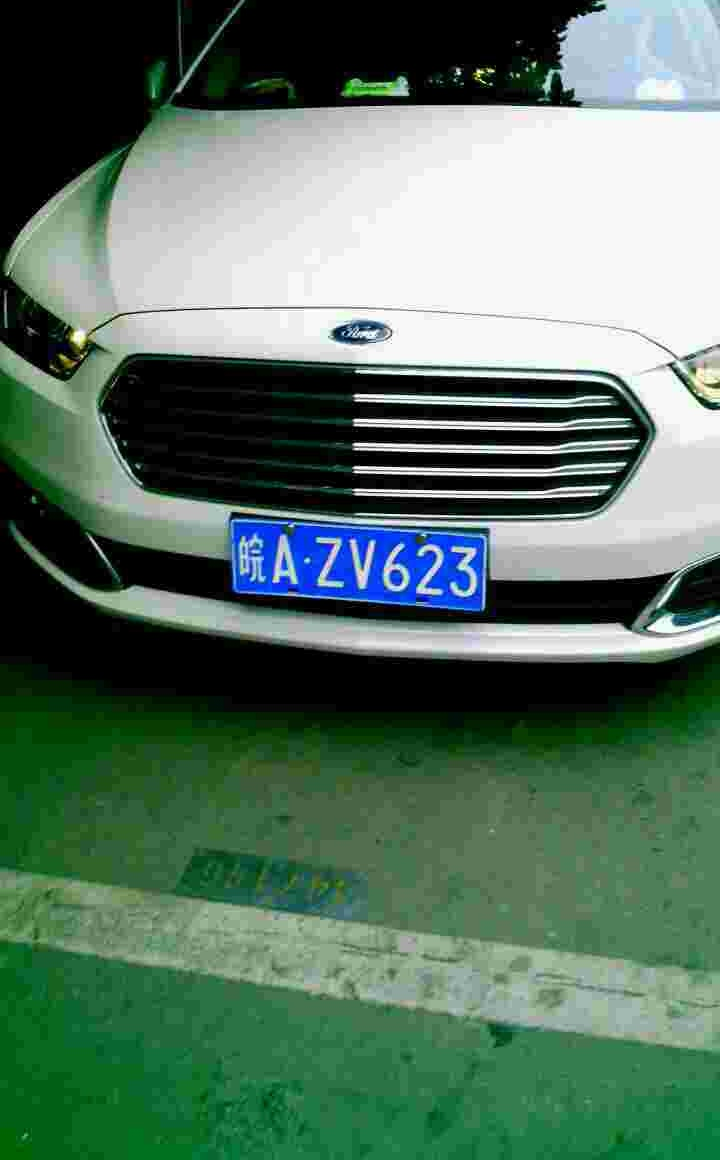license_plate: (235, 522, 500, 614)
